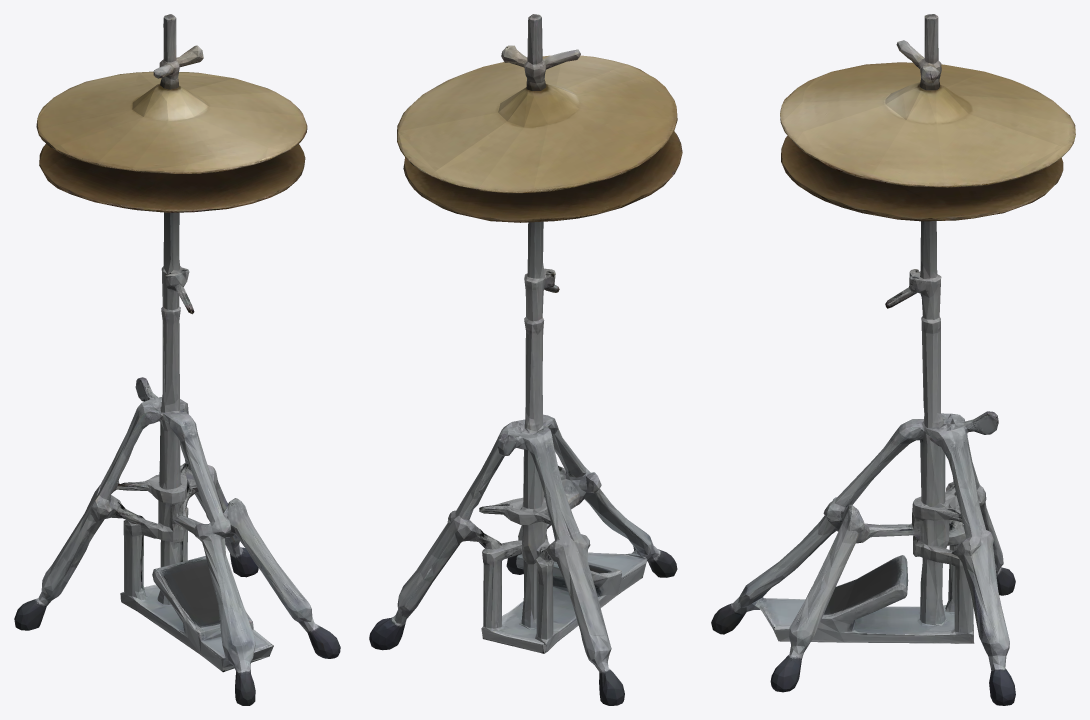
Rendered from hihat_stand.glb.
3 views of the same model, side by side, from view 1: azimuth 30°, elevation 25°; view 2: azimuth 150°, elevation 25°; view 3: azimuth 270°, elevation 25° (orthographic). The views are drawn at different scales.
Parts seen in each view (by area): view 1: geometry_0; view 2: geometry_0; view 3: geometry_0.
Part boxes in pixels (left/top/right/bottom): geometry_0: left=14, top=14, right=340, bottom=705; geometry_0: left=369, top=14, right=682, bottom=705; geometry_0: left=711, top=14, right=1075, bottom=705.
Size of the model in its own units: 0.4175 by 1 by 0.525.
Materials: 1 (1 with a texture image).
